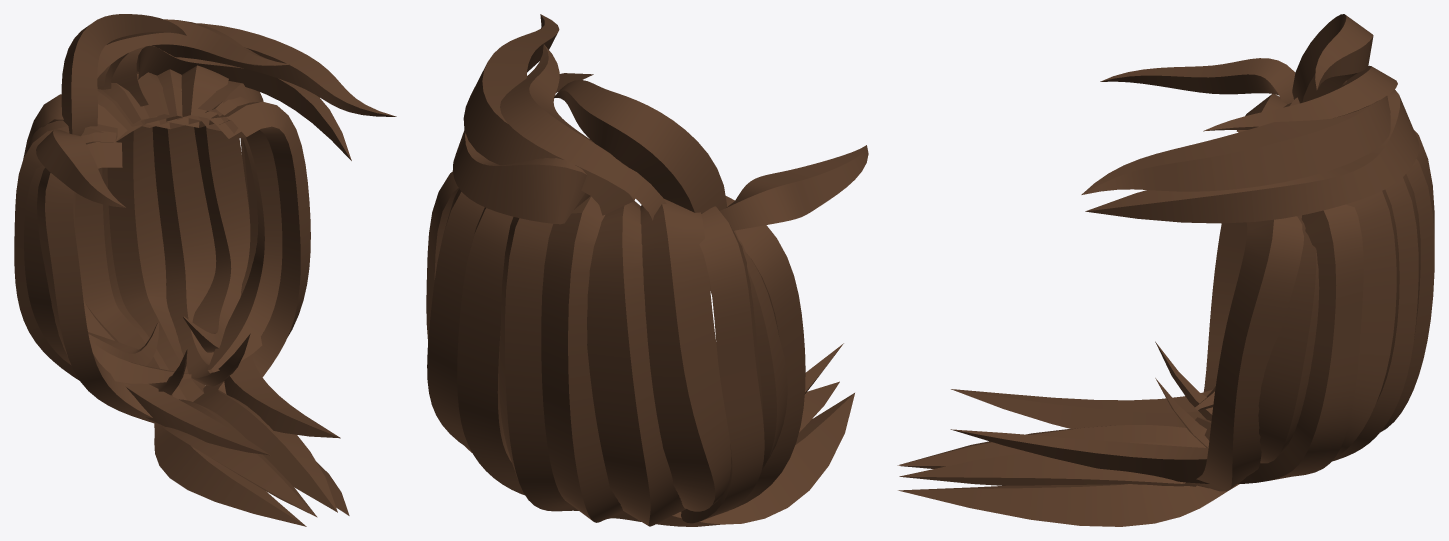
File: Body_002.fbx
3 renders of one model, left to right at view 1: azimuth 30°, elevation 25°; view 2: azimuth 150°, elevation 25°; view 3: azimuth 270°, elevation 25°, orthographic. The views are drawn at different scales.
Visible parts, largest first — view 1: Body.002; view 2: Body.002; view 3: Body.002.
Boxes of the visible parts, bbox=[...] form: Body.002: bbox=[14, 14, 396, 526]; Body.002: bbox=[426, 14, 868, 526]; Body.002: bbox=[897, 14, 1434, 526].
Size of the model in its own units: 93.21 by 126 by 132.
